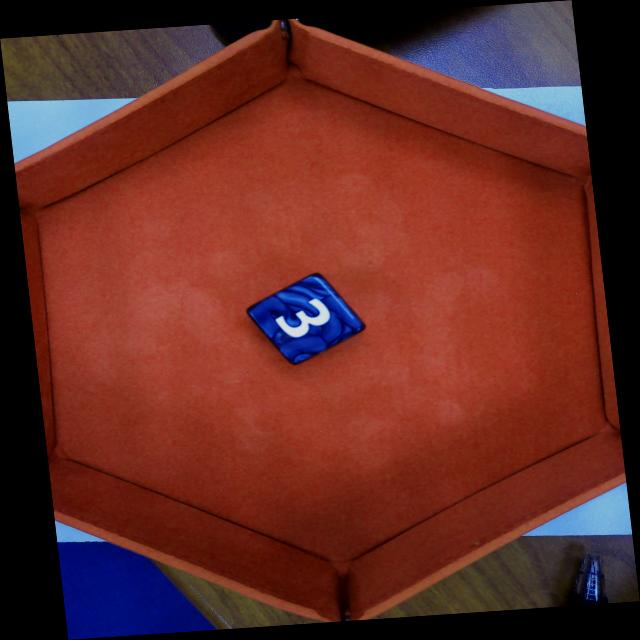dice: (245, 272, 367, 366)
